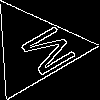M: (10, 23, 78, 83)
